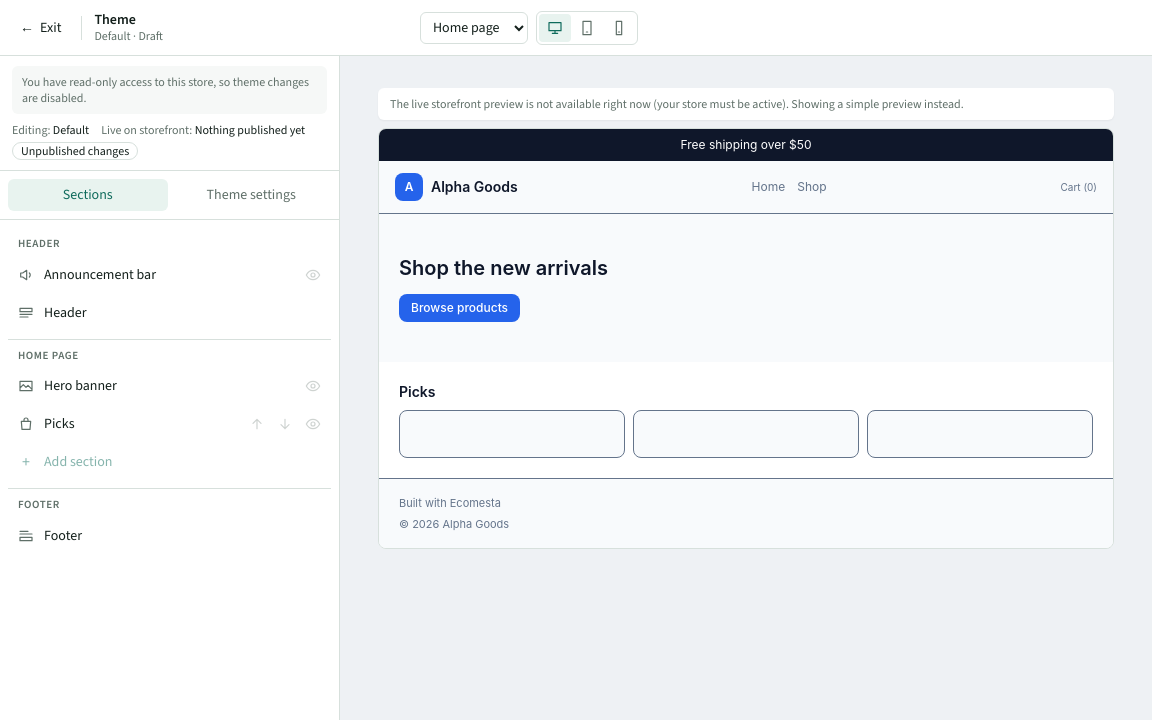
Scenario: Premium themes › read-only members see the premium state but cannot buy
Click the tab "Theme settings" at (251, 195), box [172,179,331,211]
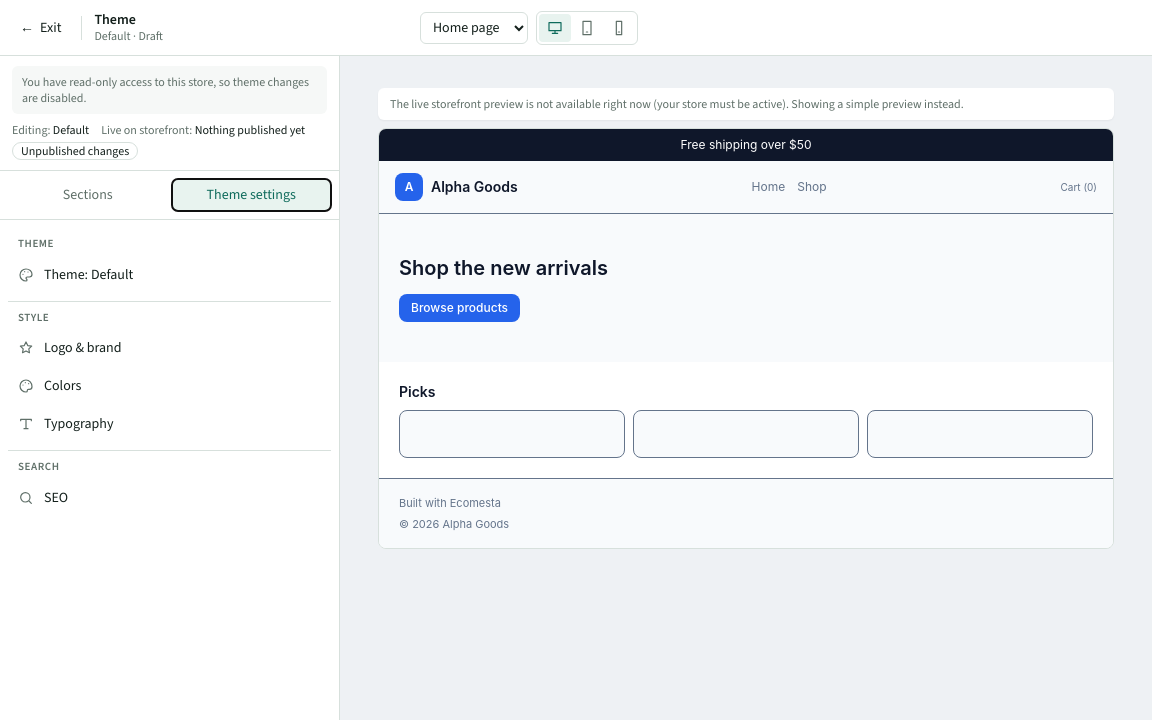
Click the button "Theme: Default" at (89, 274), box [8,256,331,292]
(page scrolled)
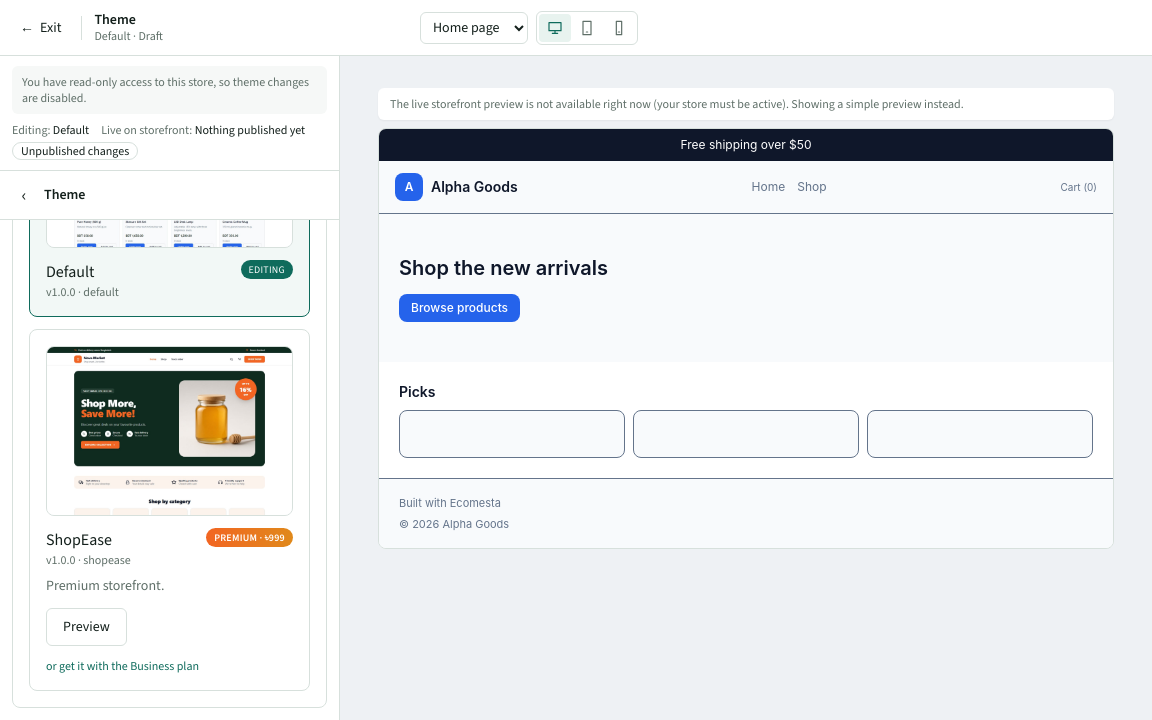
expect the text "Premium · ৳999" is shown: met, box [206,528,293,547]
